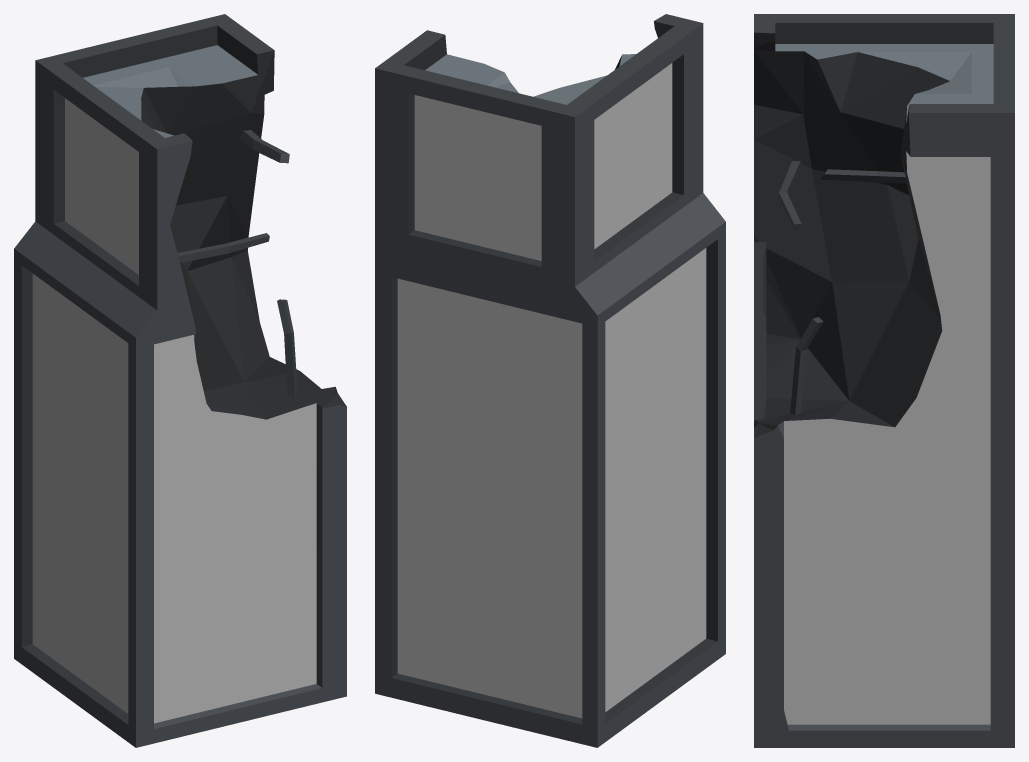
File: SM_Bld_Highrise_04.fbx
3 renders of one model, left to right at view 1: azimuth 30°, elevation 25°; view 2: azimuth 150°, elevation 25°; view 3: azimuth 270°, elevation 25°, orthographic. The views are drawn at different scales.
Parts seen in each view (by area): view 1: SM_Bld_Highrise_04; view 2: SM_Bld_Highrise_04; view 3: SM_Bld_Highrise_04.
Boxes of the visible parts, x1,y1,x2,y2 form: SM_Bld_Highrise_04: [14, 14, 346, 747]; SM_Bld_Highrise_04: [375, 14, 725, 747]; SM_Bld_Highrise_04: [754, 14, 1014, 747].
Bounding box in the file's own units: 56.8 × 153 × 56.8.
